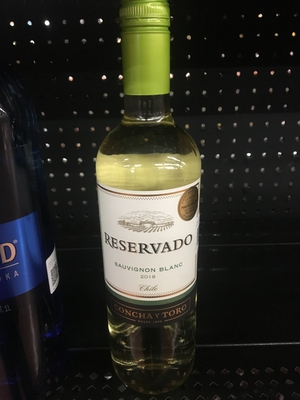reservado sauvignon blanc: (82, 13, 212, 400)
